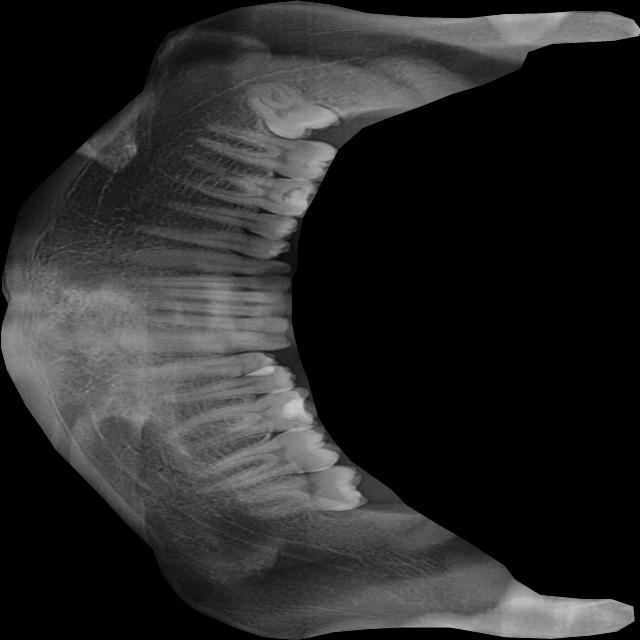mandibula: (0, 0, 640, 640)
